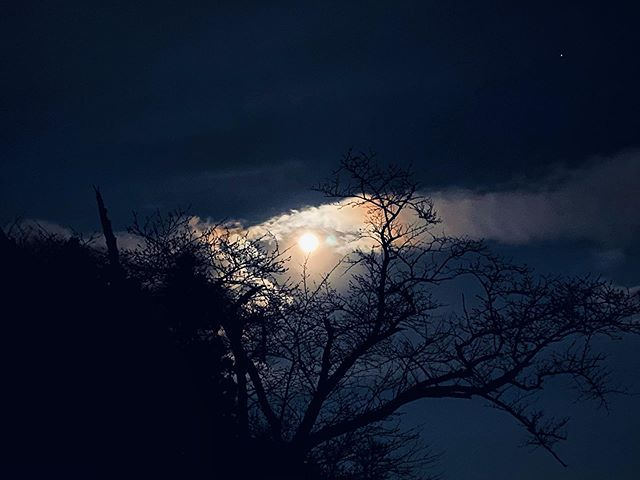sky: (1, 1, 640, 249)
sun: (286, 223, 335, 257)
tree: (156, 227, 590, 480)
